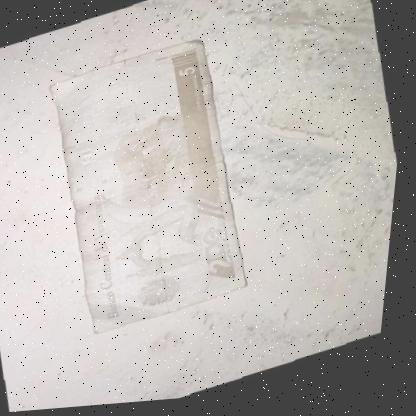five-back-vef: (30, 32, 274, 344)
